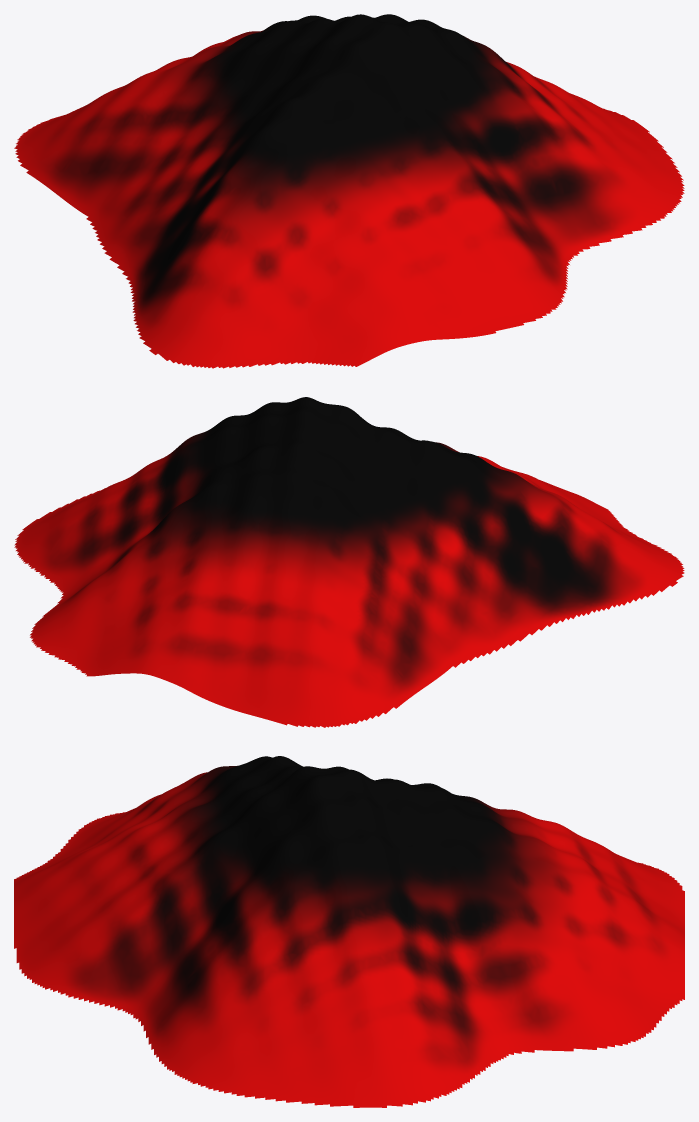
File: SM_GraniteDomeFar_01.fbx
3 views of the same model, one above another, from view 1: azimuth 30°, elevation 25°; view 2: azimuth 150°, elevation 25°; view 3: azimuth 270°, elevation 25° (orthographic). The views are drawn at different scales.
Visible parts, largest first — view 1: SM_GraniteDomeFar_01; view 2: SM_GraniteDomeFar_01; view 3: SM_GraniteDomeFar_01.
Part boxes in pixels (x1,y1,x2,y2): SM_GraniteDomeFar_01: (14, 14, 684, 368); SM_GraniteDomeFar_01: (14, 397, 684, 727); SM_GraniteDomeFar_01: (14, 756, 684, 1107).
Size of the model in its own units: 34555 by 33001 by 10428.
